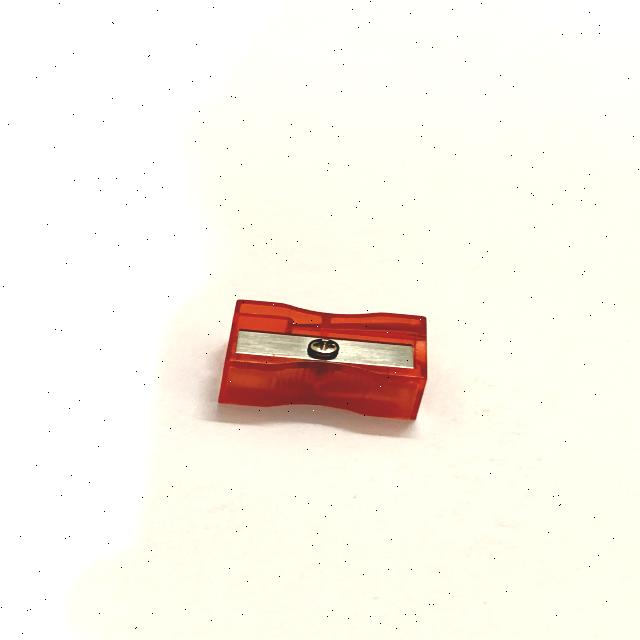Sharpner: (192, 291, 449, 435)
